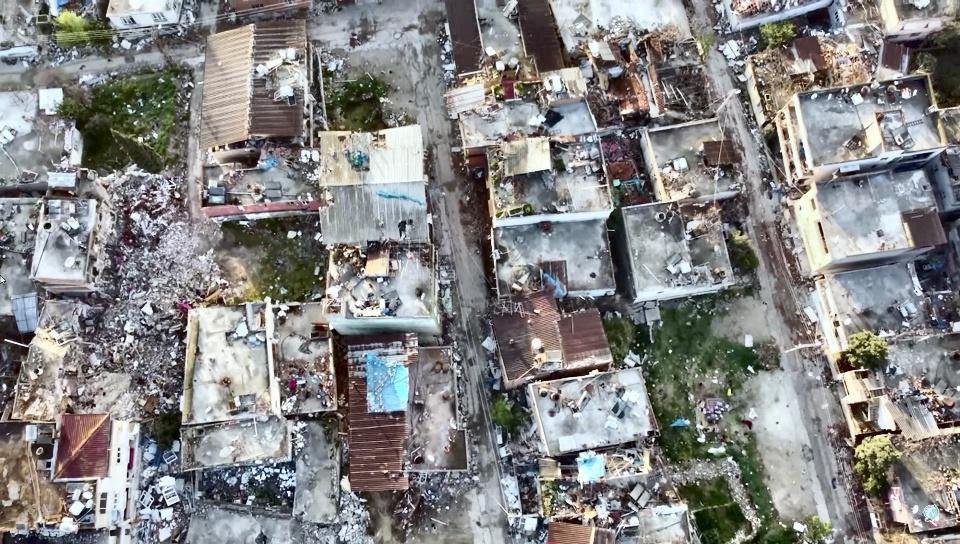kapali: (138, 191, 213, 543)
